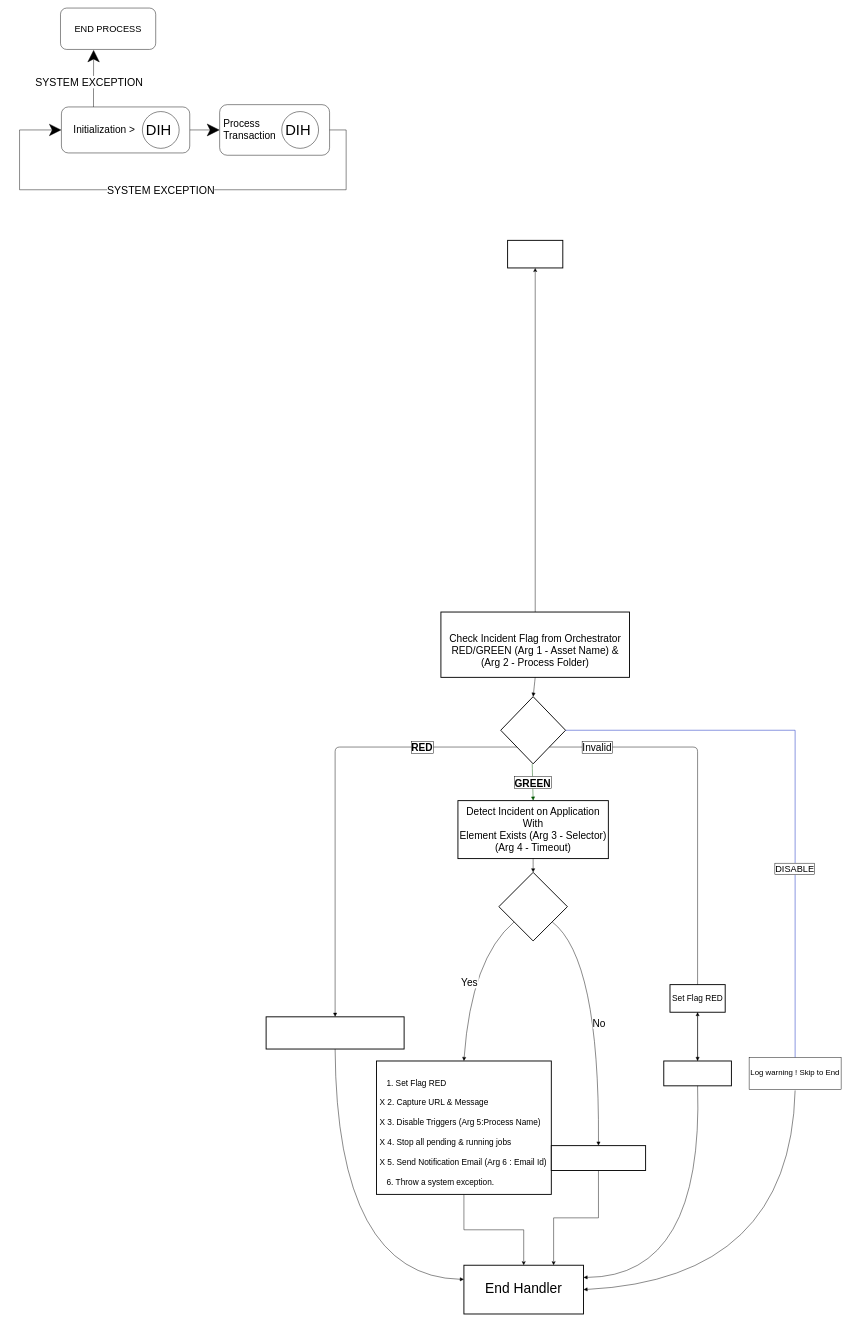
The diagram is 849 pixels wide and 1323 high, and some of its shapes have lost their labels. Here are the shapes that lost their labels. From the top down, the centre of each, then its label:
At [535,254]: "START".
At [533,730]: "Flag Status".
At [533,906]: "Incident Detected?".
At [334,1032]: "1. Throw a system exception X 2. Send Notification email.".
At [697,1073]: "Log Warning".
At [598,1158]: "Continue Monitoring".
